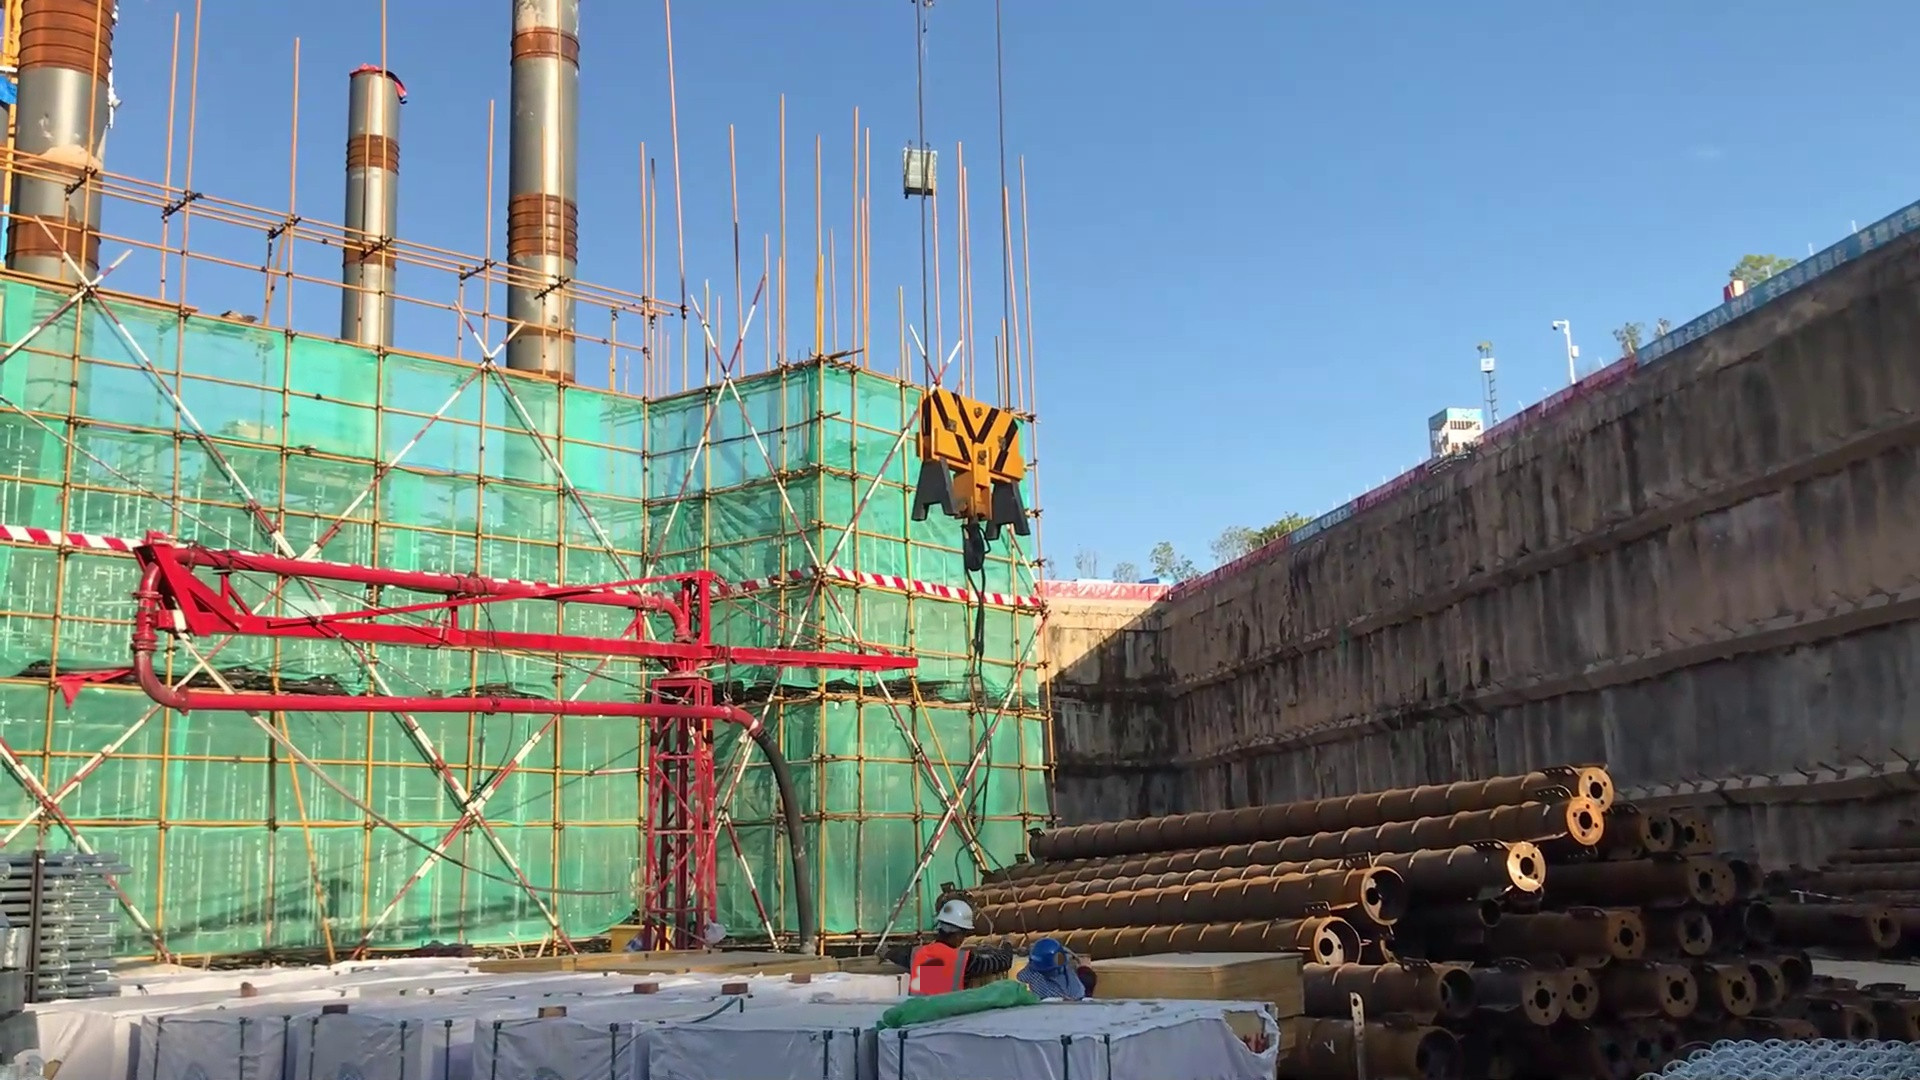board: (1076, 945, 1315, 1016)
ebox: (609, 917, 673, 955)
helmet: (1025, 931, 1081, 995), (931, 894, 976, 955)
hook: (904, 382, 1048, 570)
person: (906, 893, 989, 1008)
scaffold: (5, 851, 152, 1003)
slogan: (1636, 193, 1920, 374), (1280, 488, 1362, 551)
vest: (910, 938, 981, 1006)
